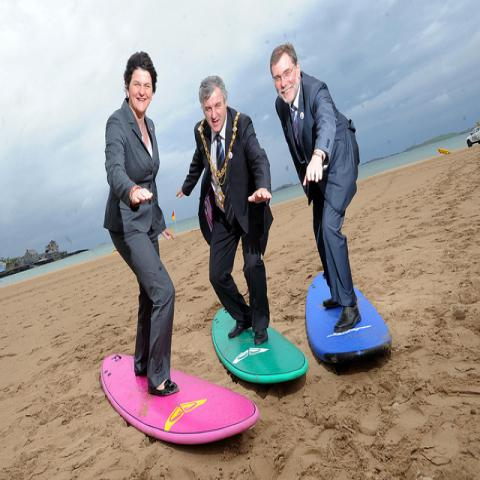car: (466, 124, 479, 148)
